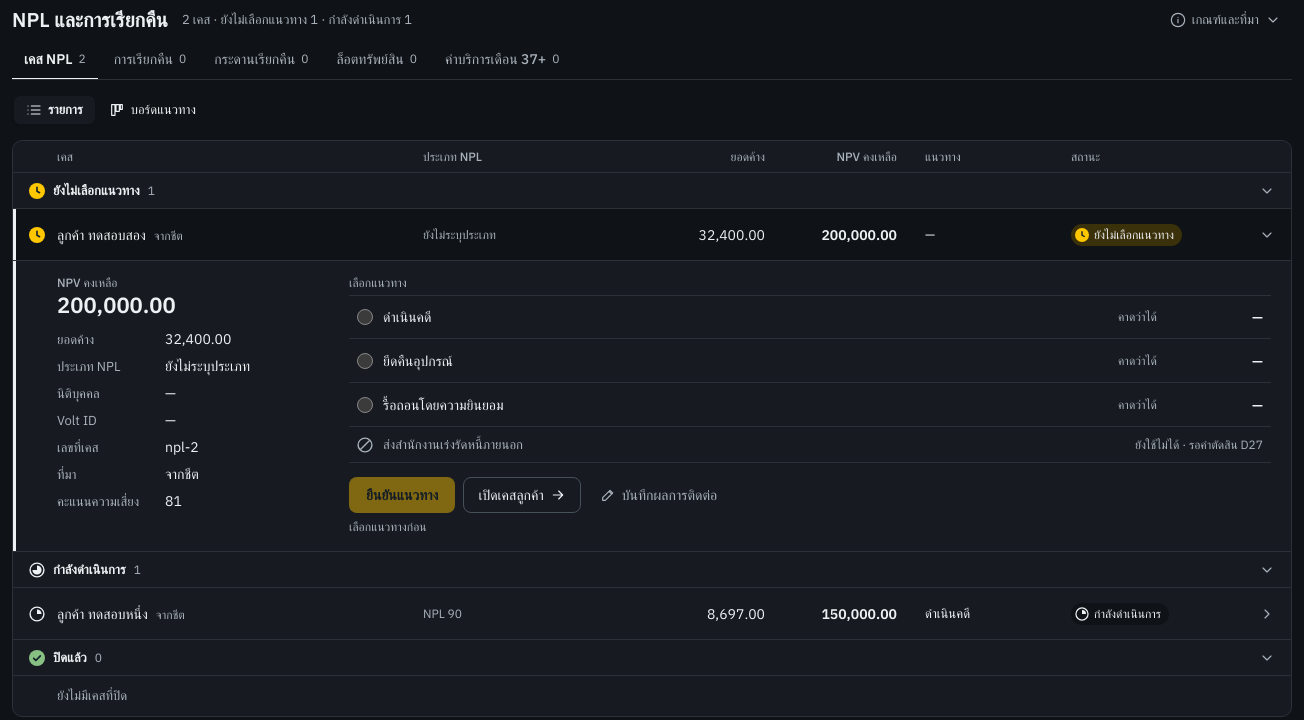
Scenario: the NPL strategy board (F08, Q2) › draws five columns, the unavailable one named with its decision
Click the radio button labelled "บอร์ดแนวทาง" at coordinates (152, 110), box [97, 96, 208, 124]
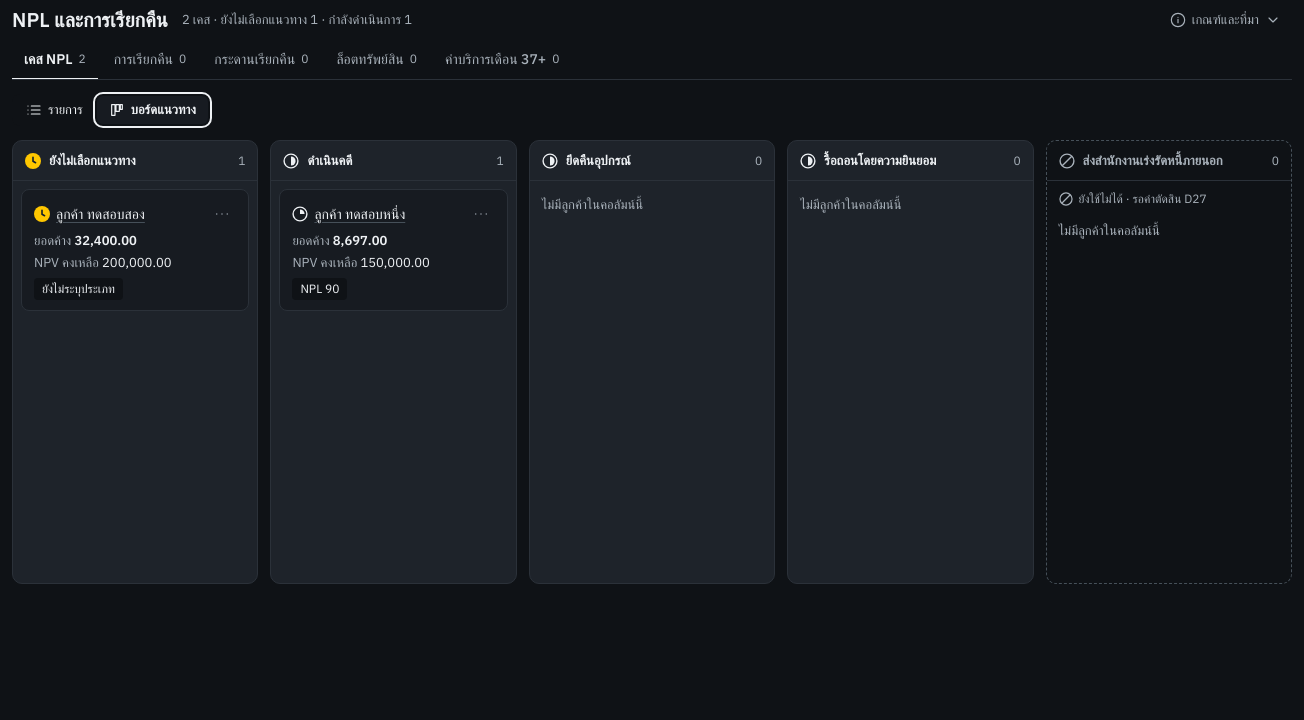
Check: the number of elements with class "lane" is 5, box [12, 140, 258, 584]; [270, 140, 517, 584]; [529, 140, 775, 584]; [787, 140, 1034, 584]; [1046, 140, 1292, 584]
Check: the element "ยังไม่เลือกแนวทาง" is shown, box [12, 140, 258, 584]
Check: the element named "ส่งสำนักงานเร่งรัดหนี้ภายนอก · ยังใช้ไม่ได้ · รอคำตัดสิน D27" is shown, box [1046, 140, 1292, 584]
